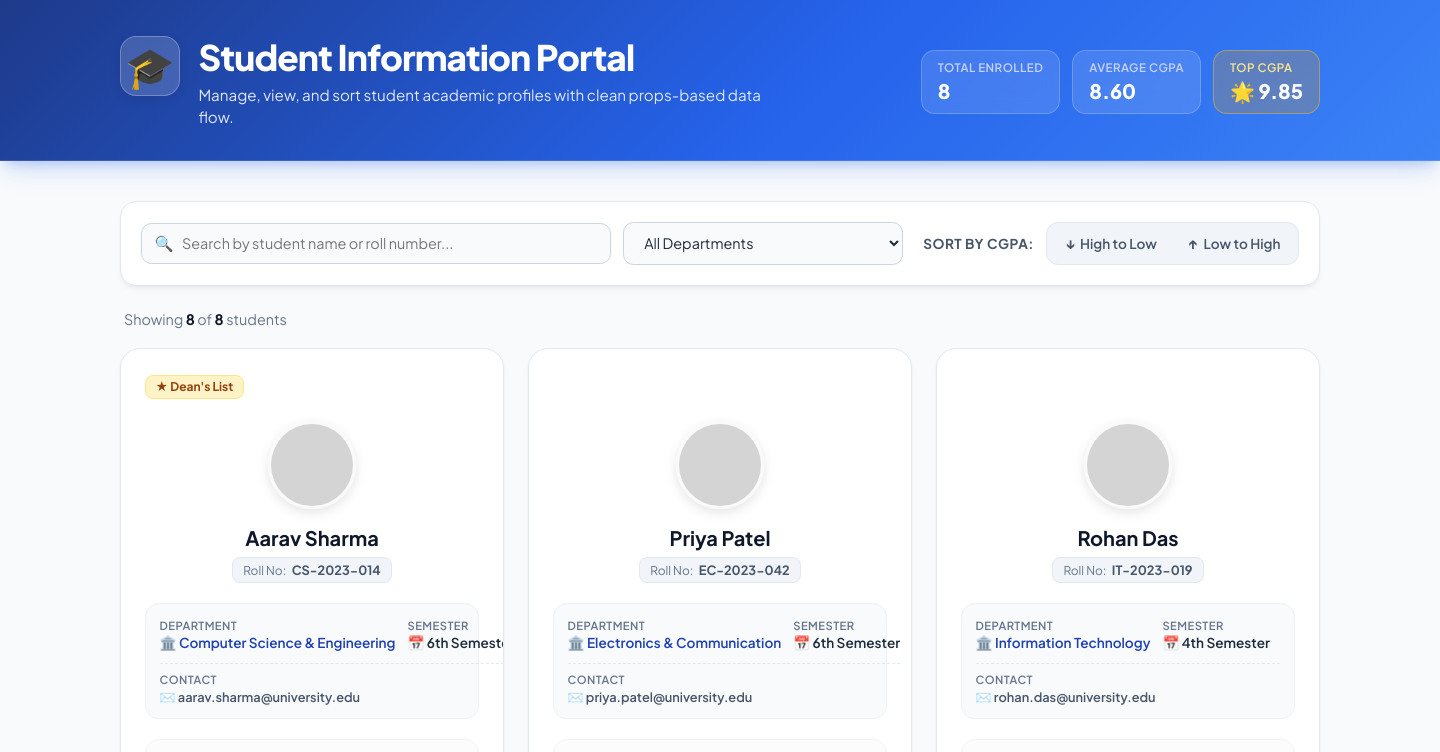
Test case: Student Information Portal › sorts students by CGPA High to Low when clicked
What coordinates should you click on to do the following:
click the button "↓ High to Low"
I would click on:
 (1111, 243)
Its box is [1051,227,1170,260].
(page scrolled)
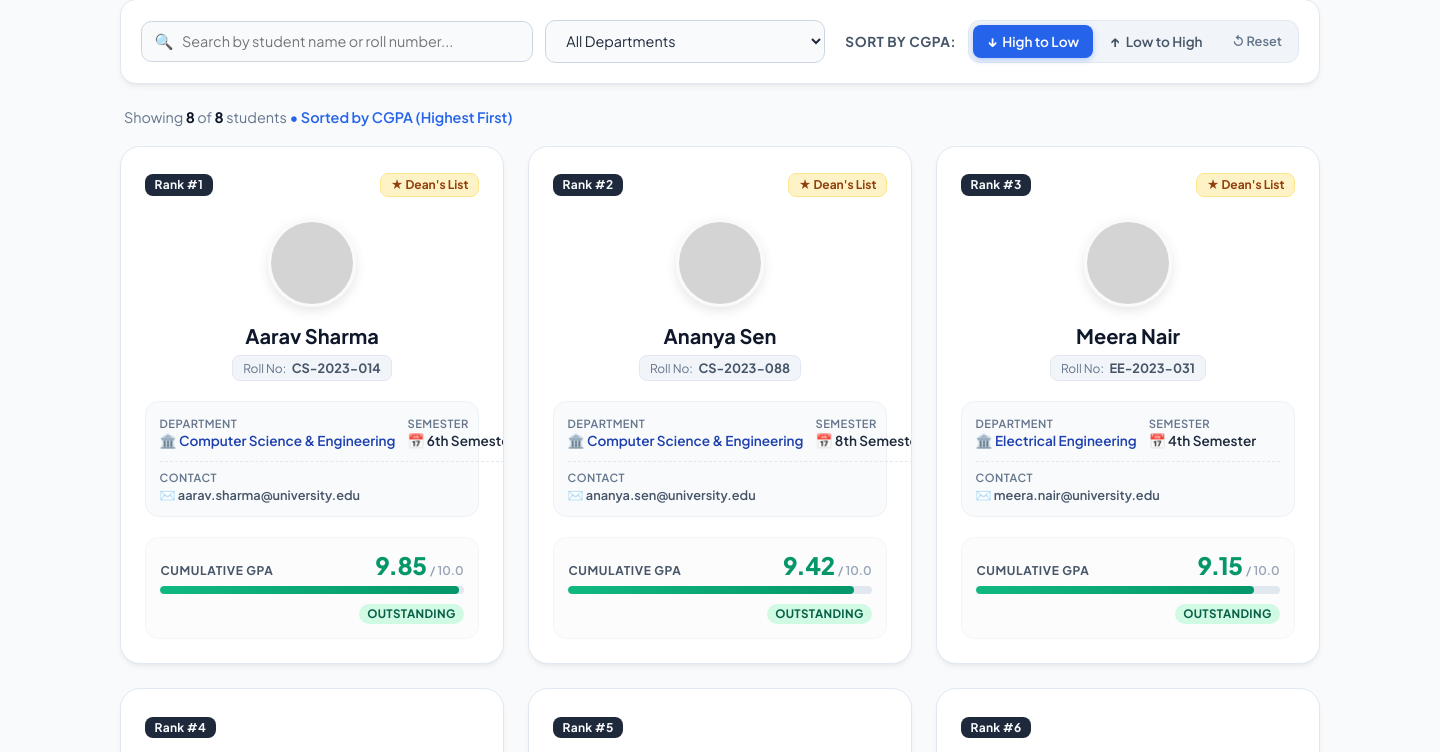
Expected: the text "Aarav Sharma" is shown, [245,323,379,348]
Expected: the text titled "Ranked #1 by CGPA" reads "Rank #1", [145,174,213,196]
